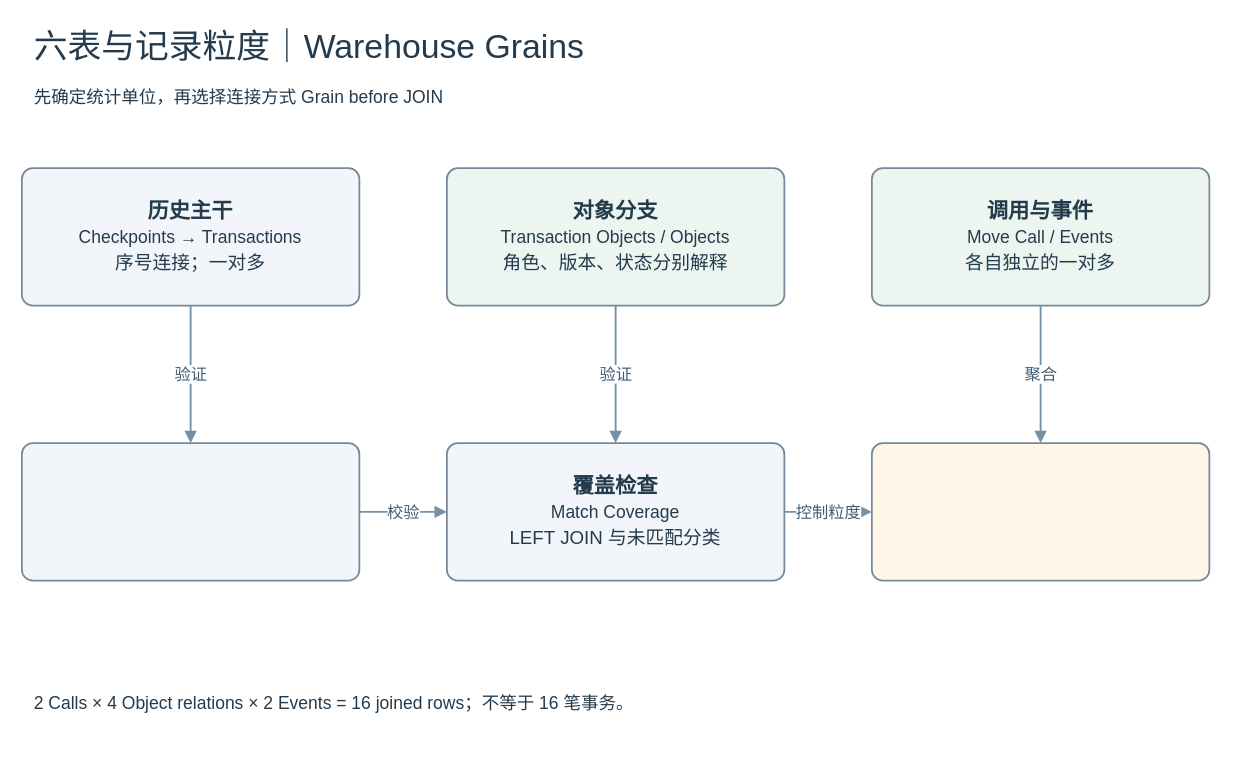
The diagram is 1233 pixels wide and 758 high, and some of its shapes have lost their labels. Each missing label, with the centre of its shape:
聚合与连接 Aggregate Then Join 在目标粒度连接分支: point (1040, 511)
键检查 Candidate Keys 查 NULL、重复与类型: point (190, 511)
